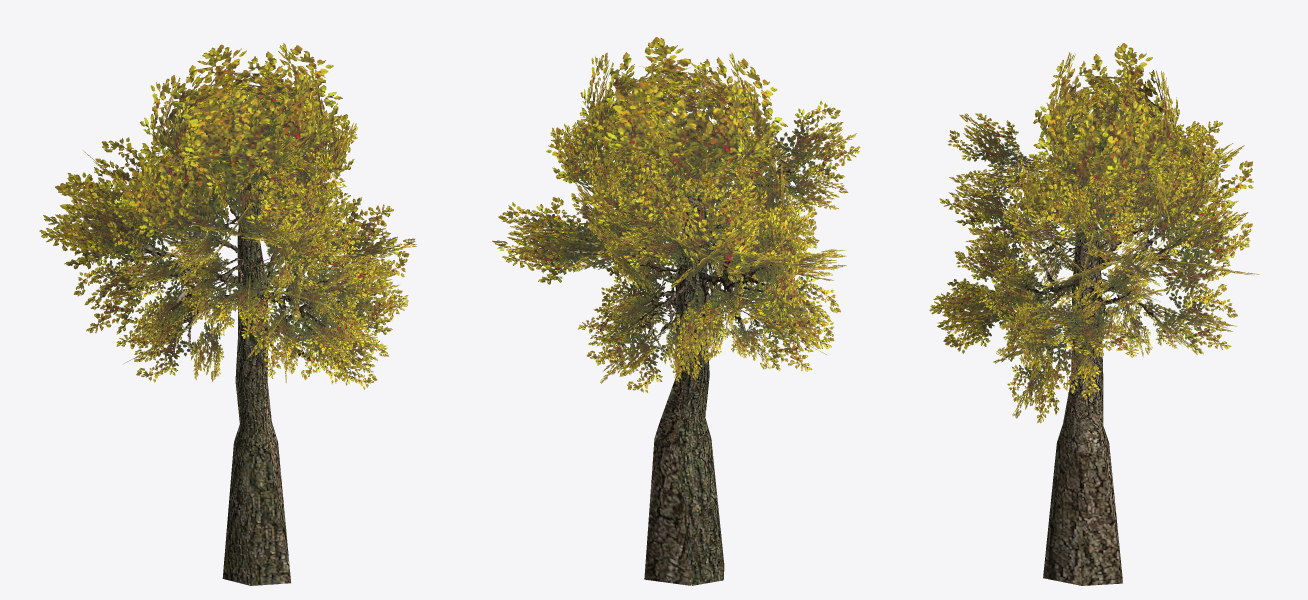
The model's file is roble_otono_a.glb.
The picture shows the model from 3 angles, left to right: view 1: azimuth 30°, elevation 25°; view 2: azimuth 150°, elevation 25°; view 3: azimuth 270°, elevation 25°; orthographic projection. The views are drawn at different scales.
Visible parts, largest first — view 1: Copa, Tronco; view 2: Copa, Tronco; view 3: Copa, Tronco.
Part boxes in pixels (x1=…): Copa: x1=39, y1=43, x2=416, y2=389; Tronco: x1=116, y1=146, x2=360, y2=585; Copa: x1=492, y1=37, x2=860, y2=392; Tronco: x1=564, y1=130, x2=804, y2=585; Copa: x1=929, y1=43, x2=1259, y2=423; Tronco: x1=980, y1=154, x2=1207, y2=585.
Bounding box in the file's own units: 9.06 × 11.87 × 8.07.
2 materials, 2 textured.
